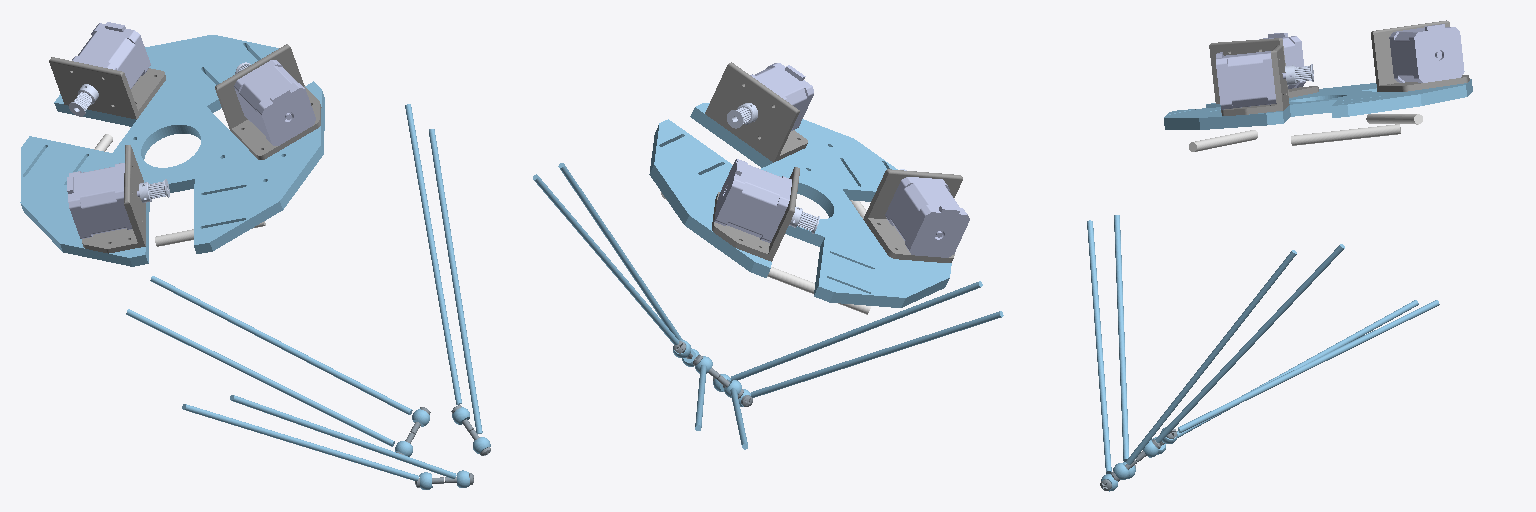
--- Facts derived from the render (not from the file) ---
3 views of the same robot in one strip: view 1: azimuth 30°, elevation 25°; view 2: azimuth 150°, elevation 25°; view 3: azimuth 270°, elevation 25° (orthographic).
Robot: delta-robot — 4 links, 3 joints (3 revolute); root link base_plate; default pose: every joint at zero.
Links seen in each view (by area): view 1: base_plate, arm_assembly_3, arm_assembly, arm_assembly_2; view 2: base_plate, arm_assembly_2, arm_assembly, arm_assembly_3; view 3: base_plate, arm_assembly, arm_assembly_2, arm_assembly_3.
Boxes of the visible links, <box> form: base_plate: <box>20,22,324,266</box>; arm_assembly_3: <box>94,134,430,456</box>; arm_assembly: <box>405,104,490,455</box>; arm_assembly_2: <box>155,221,473,489</box>; base_plate: <box>649,62,969,307</box>; arm_assembly_2: <box>713,200,1003,406</box>; arm_assembly: <box>533,163,699,366</box>; arm_assembly_3: <box>693,267,870,449</box>; base_plate: <box>1164,20,1472,129</box>; arm_assembly: <box>1111,124,1400,481</box>; arm_assembly_2: <box>1087,130,1257,491</box>; arm_assembly_3: <box>1151,114,1439,454</box>.
Bounding box of the posed robot: 0.3561 × 0.3165 × 0.3594 m (x, y, z).
31 mesh visuals loaded from 15 distinct referenced files (8 binary STL); not drawn: 31 (reference not matched to a file when rendering).

robot.urdf — delta-robot:
<?xml version="1.0" ?>
<!-- Generated using onshape-to-robot -->
<!-- Onshape https://cad.onshape.com/documents/20bfbde5f0dfed09746f3835/w/89e87a07589996b404d06798/e/02e6df3ca634eef0ea4fbf46 -->
<robot name="delta-robot">
  <!-- Link base_plate -->
  <link name="base_plate">
    <inertial>
      <origin xyz="-0.264612 0.12931 0.0615589" rpy="0 0 0"/>
      <mass value="0.0210468"/>
      <inertia ixx="7.78087e-05" ixy="2.78961e-06" ixz="-2.29581e-05" iyy="6.96219e-05" iyz="-7.07901e-06" izz="0.000127021"/>
    </inertial>
    <!-- Part gear_mount -->
    <visual>
      <origin xyz="-0.280176 0.118151 0.0151876" rpy="-0.305978 0.247573 2.52966"/>
      <geometry>
        <mesh filename="package://assets/gear_mount.stl"/>
      </geometry>
      <material name="gear_mount_material">
        <color rgba="0.231373 0.380392 0.705882 1"/>
      </material>
    </visual>
    <collision>
      <origin xyz="-0.280176 0.118151 0.0151876" rpy="-0.305978 0.247573 2.52966"/>
      <geometry>
        <mesh filename="package://assets/gear_mount.stl"/>
      </geometry>
    </collision>
    <!-- Part gear_mount_2 -->
    <visual>
      <origin xyz="-0.250632 0.168038 0.0328917" rpy="-0.0714862 -0.384872 0.487563"/>
      <geometry>
        <mesh filename="package://assets/gear_mount.stl"/>
      </geometry>
      <material name="gear_mount_2_material">
        <color rgba="0.231373 0.380392 0.705882 1"/>
      </material>
    </visual>
    <collision>
      <origin xyz="-0.250632 0.168038 0.0328917" rpy="-0.0714862 -0.384872 0.487563"/>
      <geometry>
        <mesh filename="package://assets/gear_mount.stl"/>
      </geometry>
    </collision>
    <!-- Part part_1 -->
    <visual>
      <origin xyz="-0.286239 0.208166 0.062677" rpy="-0.385763 0.0662488 2.03148"/>
      <geometry>
        <mesh filename="package://assets/part_1.stl"/>
      </geometry>
      <material name="part_1_material">
        <color rgba="0.866667 0.909804 1 1"/>
      </material>
    </visual>
    <collision>
      <origin xyz="-0.286239 0.208166 0.062677" rpy="-0.385763 0.0662488 2.03148"/>
      <geometry>
        <mesh filename="package://assets/part_1.stl"/>
      </geometry>
    </collision>
    <!-- Part motor_mount_1 -->
    <visual>
      <origin xyz="-0.251516 0.133348 0.0283281" rpy="0.36969 0.130762 -1.59628"/>
      <geometry>
        <mesh filename="package://assets/motor_mount_1.stl"/>
      </geometry>
      <material name="motor_mount_1_material">
        <color rgba="0.647059 0.647059 0.647059 1"/>
      </material>
    </visual>
    <collision>
      <origin xyz="-0.251516 0.133348 0.0283281" rpy="0.36969 0.130762 -1.59628"/>
      <geometry>
        <mesh filename="package://assets/motor_mount_1.stl"/>
      </geometry>
    </collision>
    <!-- Part motor_mount_1_2 -->
    <visual>
      <origin xyz="-0.251516 0.133348 0.0283281" rpy="-0.0714862 -0.384872 0.487563"/>
      <geometry>
        <mesh filename="package://assets/motor_mount_1.stl"/>
      </geometry>
      <material name="motor_mount_1_2_material">
        <color rgba="0.647059 0.647059 0.647059 1"/>
      </material>
    </visual>
    <collision>
      <origin xyz="-0.251516 0.133348 0.0283281" rpy="-0.0714862 -0.384872 0.487563"/>
      <geometry>
        <mesh filename="package://assets/motor_mount_1.stl"/>
      </geometry>
    </collision>
    <!-- Part gear_mount_3 -->
    <visual>
      <origin xyz="-0.223741 0.113855 0.0369049" rpy="0.36969 0.130762 -1.59628"/>
      <geometry>
        <mesh filename="package://assets/gear_mount.stl"/>
      </geometry>
      <material name="gear_mount_3_material">
        <color rgba="0.231373 0.380392 0.705882 1"/>
      </material>
    </visual>
    <collision>
      <origin xyz="-0.223741 0.113855 0.0369049" rpy="0.36969 0.130762 -1.59628"/>
      <geometry>
        <mesh filename="package://assets/gear_mount.stl"/>
      </geometry>
    </collision>
    <!-- Part gear_mount_4 -->
    <visual>
      <origin xyz="-0.251516 0.133348 0.0283281" rpy="-0.305978 0.247573 2.52966"/>
      <geometry>
        <mesh filename="package://assets/gear_mount.stl"/>
      </geometry>
      <material name="gear_mount_4_material">
        <color rgba="0.231373 0.380392 0.705882 1"/>
      </material>
    </visual>
    <collision>
      <origin xyz="-0.251516 0.133348 0.0283281" rpy="-0.305978 0.247573 2.52966"/>
      <geometry>
        <mesh filename="package://assets/gear_mount.stl"/>
      </geometry>
    </collision>
    <!-- Part part_5 -->
    <visual>
      <origin xyz="-0.251516 0.133348 0.0283281" rpy="0.36969 0.130762 -1.59628"/>
      <geometry>
        <mesh filename="package://assets/part_5.stl"/>
      </geometry>
      <material name="part_5_material">
        <color rgba="0.768627 0.886275 0.952941 1"/>
      </material>
    </visual>
    <collision>
      <origin xyz="-0.251516 0.133348 0.0283281" rpy="0.36969 0.130762 -1.59628"/>
      <geometry>
        <mesh filename="package://assets/part_5.stl"/>
      </geometry>
    </collision>
    <!-- Part gear_mount_5 -->
    <visual>
      <origin xyz="-0.251516 0.133348 0.0283281" rpy="-0.0714862 -0.384872 0.487563"/>
      <geometry>
        <mesh filename="package://assets/gear_mount.stl"/>
      </geometry>
      <material name="gear_mount_5_material">
        <color rgba="0.231373 0.380392 0.705882 1"/>
      </material>
    </visual>
    <collision>
      <origin xyz="-0.251516 0.133348 0.0283281" rpy="-0.0714862 -0.384872 0.487563"/>
      <geometry>
        <mesh filename="package://assets/gear_mount.stl"/>
      </geometry>
    </collision>
    <!-- Part gear_mount_6 -->
    <visual>
      <origin xyz="-0.251516 0.133348 0.0283281" rpy="0.36969 0.130762 -1.59628"/>
      <geometry>
        <mesh filename="package://assets/gear_mount.stl"/>
      </geometry>
      <material name="gear_mount_6_material">
        <color rgba="0.231373 0.380392 0.705882 1"/>
      </material>
    </visual>
    <collision>
      <origin xyz="-0.251516 0.133348 0.0283281" rpy="0.36969 0.130762 -1.59628"/>
      <geometry>
        <mesh filename="package://assets/gear_mount.stl"/>
      </geometry>
    </collision>
    <!-- Part base_plate -->
    <visual>
      <origin xyz="-0.251516 0.133348 0.0283281" rpy="0.36969 0.130762 -1.59628"/>
      <geometry>
        <mesh filename="package://assets/base_plate.stl"/>
      </geometry>
      <material name="base_plate_material">
        <color rgba="0.615686 0.811765 0.929412 1"/>
      </material>
    </visual>
    <collision>
      <origin xyz="-0.251516 0.133348 0.0283281" rpy="0.36969 0.130762 -1.59628"/>
      <geometry>
        <mesh filename="package://assets/base_plate.stl"/>
      </geometry>
    </collision>
    <!-- Part motor_mount_1_3 -->
    <visual>
      <origin xyz="-0.251516 0.133348 0.0283281" rpy="-0.305978 0.247573 2.52966"/>
      <geometry>
        <mesh filename="package://assets/motor_mount_1.stl"/>
      </geometry>
      <material name="motor_mount_1_3_material">
        <color rgba="0.647059 0.647059 0.647059 1"/>
      </material>
    </visual>
    <collision>
      <origin xyz="-0.251516 0.133348 0.0283281" rpy="-0.305978 0.247573 2.52966"/>
      <geometry>
        <mesh filename="package://assets/motor_mount_1.stl"/>
      </geometry>
    </collision>
    <!-- Part part_1_2 -->
    <visual>
      <origin xyz="-0.190585 0.106835 0.0880585" rpy="0.140117 -0.366384 -0.0759707"/>
      <geometry>
        <mesh filename="package://assets/part_1.stl"/>
      </geometry>
      <material name="part_1_2_material">
        <color rgba="0.866667 0.909804 1 1"/>
      </material>
    </visual>
    <collision>
      <origin xyz="-0.190585 0.106835 0.0880585" rpy="0.140117 -0.366384 -0.0759707"/>
      <geometry>
        <mesh filename="package://assets/part_1.stl"/>
      </geometry>
    </collision>
    <!-- Part motor -->
    <visual>
      <origin xyz="-0.279647 0.211662 0.0656993" rpy="-2.96706 -1.17967 -2.8425"/>
      <geometry>
        <mesh filename="package://assets/motor.stl"/>
      </geometry>
      <material name="motor_material">
        <color rgba="0.796078 0.823529 0.937255 1"/>
      </material>
    </visual>
    <collision>
      <origin xyz="-0.279647 0.211662 0.0656993" rpy="-2.96706 -1.17967 -2.8425"/>
      <geometry>
        <mesh filename="package://assets/motor.stl"/>
      </geometry>
    </collision>
    <!-- Part motor_2 -->
    <visual>
      <origin xyz="-0.323459 0.0773934 0.0321197" rpy="-0.872665 -1.17967 -2.8425"/>
      <geometry>
        <mesh filename="package://assets/motor.stl"/>
      </geometry>
      <material name="motor_2_material">
        <color rgba="0.796078 0.823529 0.937255 1"/>
      </material>
    </visual>
    <collision>
      <origin xyz="-0.323459 0.0773934 0.0321197" rpy="-0.872665 -1.17967 -2.8425"/>
      <geometry>
        <mesh filename="package://assets/motor.stl"/>
      </geometry>
    </collision>
    <!-- Part motor_3 -->
    <visual>
      <origin xyz="-0.190788 0.0988565 0.0870089" rpy="1.22173 -1.17967 -2.8425"/>
      <geometry>
        <mesh filename="package://assets/motor.stl"/>
      </geometry>
      <material name="motor_3_material">
        <color rgba="0.796078 0.823529 0.937255 1"/>
      </material>
    </visual>
    <collision>
      <origin xyz="-0.190788 0.0988565 0.0870089" rpy="1.22173 -1.17967 -2.8425"/>
      <geometry>
        <mesh filename="package://assets/motor.stl"/>
      </geometry>
    </collision>
    <!-- Part part_1_3 -->
    <visual>
      <origin xyz="-0.317071 0.0729101 0.0340924" rpy="0.259111 0.29636 -2.10547"/>
      <geometry>
        <mesh filename="package://assets/part_1.stl"/>
      </geometry>
      <material name="part_1_3_material">
        <color rgba="0.866667 0.909804 1 1"/>
      </material>
    </visual>
    <collision>
      <origin xyz="-0.317071 0.0729101 0.0340924" rpy="0.259111 0.29636 -2.10547"/>
      <geometry>
        <mesh filename="package://assets/part_1.stl"/>
      </geometry>
    </collision>
  </link>
  <!-- Link arm_assembly -->
  <link name="arm_assembly">
    <inertial>
      <origin xyz="0.0112847 0.035418 -0.102236" rpy="0 0 0"/>
      <mass value="0.0584453"/>
      <inertia ixx="0.00063144" ixy="-0.000131553" ixz="9.39485e-05" iyy="0.000259412" iyz="0.000295681" izz="0.000464379"/>
    </inertial>
    <!-- Part part_1_4 -->
    <visual>
      <origin xyz="0.0703999 0.0258622 -0.06405" rpy="1.92285 -1.5708 0"/>
      <geometry>
        <mesh filename="package://assets/part_1__2.stl"/>
      </geometry>
      <material name="part_1_4_material">
        <color rgba="0.615686 0.811765 0.929412 1"/>
      </material>
    </visual>
    <collision>
      <origin xyz="0.0703999 0.0258622 -0.06405" rpy="1.92285 -1.5708 0"/>
      <geometry>
        <mesh filename="package://assets/part_1__2.stl"/>
      </geometry>
    </collision>
    <!-- Part part_1_5 -->
    <visual>
      <origin xyz="0.0768366 0.239524 -0.261009" rpy="0.137719 0.709725 1.89561"/>
      <geometry>
        <mesh filename="package://assets/part_1__3.stl"/>
      </geometry>
      <material name="part_1_5_material">
        <color rgba="0.615686 0.811765 0.929412 1"/>
      </material>
    </visual>
    <collision>
      <origin xyz="0.0768366 0.239524 -0.261009" rpy="0.137719 0.709725 1.89561"/>
      <geometry>
        <mesh filename="package://assets/part_1__3.stl"/>
      </geometry>
    </collision>
    <!-- Part m5_przegub__v1 -->
    <visual>
      <origin xyz="0.1408 0.0517243 -0.08405" rpy="0.137719 0.709725 1.89561"/>
      <geometry>
        <mesh filename="package://assets/m5_przegub__v1.stl"/>
      </geometry>
      <material name="m5_przegub__v1_material">
        <color rgba="0.627451 0.627451 0.627451 1"/>
      </material>
    </visual>
    <collision>
      <origin xyz="0.1408 0.0517243 -0.08405" rpy="0.137719 0.709725 1.89561"/>
      <geometry>
        <mesh filename="package://assets/m5_przegub__v1.stl"/>
      </geometry>
    </collision>
    <!-- Part component1 -->
    <visual>
      <origin xyz="0.1408 0.0517243 -0.04405" rpy="-3.13667 -0.012322 -2.43316"/>
      <geometry>
        <mesh filename="package://assets/component1.stl"/>
      </geometry>
      <material name="component1_material">
        <color rgba="0.627451 0.627451 0.627451 1"/>
      </material>
    </visual>
    <collision>
      <origin xyz="0.1408 0.0517243 -0.04405" rpy="-3.13667 -0.012322 -2.43316"/>
      <geometry>
        <mesh filename="package://assets/component1.stl"/>
      </geometry>
    </collision>
    <!-- Part part_2 -->
    <visual>
      <origin xyz="0.0724677 0.224546 -0.227658" rpy="-2.58629 0.0993932 -0.373747"/>
      <geometry>
        <mesh filename="package://assets/part_2.stl"/>
      </geometry>
      <material name="part_2_material">
        <color rgba="0.615686 0.811765 0.929412 1"/>
      </material>
    </visual>
    <collision>
      <origin xyz="0.0724677 0.224546 -0.227658" rpy="-2.58629 0.0993932 -0.373747"/>
      <geometry>
        <mesh filename="package://assets/part_2.stl"/>
      </geometry>
    </collision>
    <!-- Part ph_pan_head_screw_m5x0_80_x_20__cc5a28f66c81927f4b0c3b2d4528a18f -->
    <visual>
      <origin xyz="0.0774717 0.247444 -0.264777" rpy="3.1101 0.562422 -1.84496"/>
      <geometry>
        <mesh filename="package://assets/ph_pan_head_screw_m5x0_80_x_20__cc5a28f66c81927f4b0c3b2d4528a18f.stl"/>
      </geometry>
      <material name="ph_pan_head_screw_m5x0_80_x_20__cc5a28f66c81927f4b0c3b2d4528a18f_material">
        <color rgba="0.603922 0.647059 0.686275 1"/>
      </material>
    </visual>
    <collision>
      <origin xyz="0.0774717 0.247444 -0.264777" rpy="3.1101 0.562422 -1.84496"/>
      <geometry>
        <mesh filename="package://assets/ph_pan_head_screw_m5x0_80_x_20__cc5a28f66c81927f4b0c3b2d4528a18f.stl"/>
      </geometry>
    </collision>
    <!-- Part component1_2 -->
    <visual>
      <origin xyz="0.1408 0.0517243 -0.08405" rpy="0.00492019 0.012322 1.66639"/>
      <geometry>
        <mesh filename="package://assets/component1.stl"/>
      </geometry>
      <material name="component1_2_material">
        <color rgba="0.627451 0.627451 0.627451 1"/>
      </material>
    </visual>
    <collision>
      <origin xyz="0.1408 0.0517243 -0.08405" rpy="0.00492019 0.012322 1.66639"/>
      <geometry>
        <mesh filename="package://assets/component1.stl"/>
      </geometry>
    </collision>
    <!-- Part part_1_6 -->
    <visual>
      <origin xyz="0.0713548 0.230277 -0.228362" rpy="3.05256 0.784795 1.93941"/>
      <geometry>
        <mesh filename="package://assets/part_1__3.stl"/>
      </geometry>
      <material name="part_1_6_material">
        <color rgba="0.615686 0.811765 0.929412 1"/>
      </material>
    </visual>
    <collision>
      <origin xyz="0.0713548 0.230277 -0.228362" rpy="3.05256 0.784795 1.93941"/>
      <geometry>
        <mesh filename="package://assets/part_1__3.stl"/>
      </geometry>
    </collision>
    <!-- Part part_2_2 -->
    <visual>
      <origin xyz="0.0770271 0.24541 -0.26148" rpy="0.562646 0.0266399 -0.257365"/>
      <geometry>
        <mesh filename="package://assets/part_2.stl"/>
      </geometry>
      <material name="part_2_2_material">
        <color rgba="0.615686 0.811765 0.929412 1"/>
      </material>
    </visual>
    <collision>
      <origin xyz="0.0770271 0.24541 -0.26148" rpy="0.562646 0.0266399 -0.257365"/>
      <geometry>
        <mesh filename="package://assets/part_2.stl"/>
      </geometry>
    </collision>
    <!-- Part part_1_7 -->
    <visual>
      <origin xyz="0.0788779 0.235613 -0.250736" rpy="0.158469 -0.850119 1.68604"/>
      <geometry>
        <mesh filename="package://assets/part_1__4.stl"/>
      </geometry>
      <material name="part_1_7_material">
        <color rgba="0.615686 0.811765 0.929412 1"/>
      </material>
    </visual>
    <collision>
      <origin xyz="0.0788779 0.235613 -0.250736" rpy="0.158469 -0.850119 1.68604"/>
      <geometry>
        <mesh filename="package://assets/part_1__4.stl"/>
      </geometry>
    </collision>
    <!-- Part m5_przegub__v1_2 -->
    <visual>
      <origin xyz="0.1408 0.0517243 -0.04405" rpy="-0.0890354 0.784795 1.93941"/>
      <geometry>
        <mesh filename="package://assets/m5_przegub__v1.stl"/>
      </geometry>
      <material name="m5_przegub__v1_2_material">
        <color rgba="0.627451 0.627451 0.627451 1"/>
      </material>
    </visual>
    <collision>
      <origin xyz="0.1408 0.0517243 -0.04405" rpy="-0.0890354 0.784795 1.93941"/>
      <geometry>
        <mesh filename="package://assets/m5_przegub__v1.stl"/>
      </geometry>
    </collision>
    <!-- Part part_1_8 -->
    <visual>
      <origin xyz="0 0 -0.09" rpy="1.5708 -0 3.14159"/>
      <geometry>
        <mesh filename="package://assets/part_1__5.stl"/>
      </geometry>
      <material name="part_1_8_material">
        <color rgba="0.866667 0.909804 1 1"/>
      </material>
    </visual>
    <collision>
      <origin xyz="0 0 -0.09" rpy="1.5708 -0 3.14159"/>
      <geometry>
        <mesh filename="package://assets/part_1__5.stl"/>
      </geometry>
    </collision>
    <!-- Part ph_pan_head_screw_m5x0_80_x_20__cc5a28f66c81927f4b0c3b2d4528a18f_2 -->
    <visual>
      <origin xyz="0.0720231 0.222512 -0.22436" rpy="-0.116821 0.552244 -2.00603"/>
      <geometry>
        <mesh filename="package://assets/ph_pan_head_screw_m5x0_80_x_20__cc5a28f66c81927f4b0c3b2d4528a18f.stl"/>
      </geometry>
      <material name="ph_pan_head_screw_m5x0_80_x_20__cc5a28f66c81927f4b0c3b2d4528a18f_2_material">
        <color rgba="0.603922 0.647059 0.686275 1"/>
      </material>
    </visual>
    <collision>
      <origin xyz="0.0720231 0.222512 -0.22436" rpy="-0.116821 0.552244 -2.00603"/>
      <geometry>
        <mesh filename="package://assets/ph_pan_head_screw_m5x0_80_x_20__cc5a28f66c81927f4b0c3b2d4528a18f.stl"/>
      </geometry>
    </collision>
    <!-- Part rod -->
    <visual>
      <origin xyz="-0.08 -0.0175 -0.071" rpy="1.5708 -0.523599 0"/>
      <geometry>
        <mesh filename="package://assets/rod.stl"/>
      </geometry>
      <material name="rod_material">
        <color rgba="0.917647 0.917647 0.917647 1"/>
      </material>
    </visual>
    <collision>
      <origin xyz="-0.08 -0.0175 -0.071" rpy="1.5708 -0.523599 0"/>
      <geometry>
        <mesh filename="package://assets/rod.stl"/>
      </geometry>
    </collision>
    <!-- Part part_1_9 -->
    <visual>
      <origin xyz="0.075587 0.220554 -0.224819" rpy="0.088791 0.782043 -1.07653"/>
      <geometry>
        <mesh filename="package://assets/part_1__4.stl"/>
      </geometry>
      <material name="part_1_9_material">
        <color rgba="0.615686 0.811765 0.929412 1"/>
      </material>
    </visual>
    <collision>
      <origin xyz="0.075587 0.220554 -0.224819" rpy="0.088791 0.782043 -1.07653"/>
      <geometry>
        <mesh filename="package://assets/part_1__4.stl"/>
      </geometry>
    </collision>
  </link>
  <!-- Joint from base_plate to arm_assembly -->
  <joint name="shoulder1" type="revolute">
    <origin xyz="-0.168872 0.200016 0.0500666" rpy="-1.43829 -0.16193 -0.0469725"/>
    <parent link="base_plate"/>
    <child link="arm_assembly"/>
    <axis xyz="0 0 1"/>
    <limit effort="10" velocity="10" lower="-3.141592653589793" upper="3.141592653589793"/>
  </joint>
  <!-- Link arm_assembly_2 -->
  <link name="arm_assembly_2">
    <inertial>
      <origin xyz="0.00779666 0.0392206 -0.0531467" rpy="0 0 0"/>
      <mass value="0.0584453"/>
      <inertia ixx="0.000701394" ixy="-0.000100458" ixz="-6.08724e-05" iyy="0.000214471" iyz="-0.000308073" izz="0.000535493"/>
    </inertial>
    <!-- Part part_1_10 -->
    <visual>
      <origin xyz="0.0696662 0.0277781 -0.06405" rpy="1.95021 -1.5708 0"/>
      <geometry>
        <mesh filename="package://assets/part_1__2.stl"/>
      </geometry>
      <material name="part_1_10_material">
        <color rgba="0.615686 0.811765 0.929412 1"/>
      </material>
    </visual>
    <collision>
      <origin xyz="0.0696662 0.0277781 -0.06405" rpy="1.95021 -1.5708 0"/>
      <geometry>
        <mesh filename="package://assets/part_1__2.stl"/>
      </geometry>
    </collision>
    <!-- Part part_1_11 -->
    <visual>
      <origin xyz="0.0507163 0.259006 0.0623397" rpy="0.138439 -0.601779 1.97847"/>
      <geometry>
        <mesh filename="package://assets/part_1__3.stl"/>
      </geometry>
      <material name="part_1_11_material">
        <color rgba="0.615686 0.811765 0.929412 1"/>
      </material>
    </visual>
    <collision>
      <origin xyz="0.0507163 0.259006 0.0623397" rpy="0.138439 -0.601779 1.97847"/>
      <geometry>
        <mesh filename="package://assets/part_1__3.stl"/>
      </geometry>
    </collision>
    <!-- Part m5_przegub__v1_3 -->
    <visual>
      <origin xyz="0.139332 0.0555562 -0.08405" rpy="0.138439 -0.601779 1.97847"/>
      <geometry>
        <mesh filename="package://assets/m5_przegub__v1.stl"/>
      </geometry>
      <material name="m5_przegub__v1_3_material">
        <color rgba="0.627451 0.627451 0.627451 1"/>
      </material>
    </visual>
    <collision>
      <origin xyz="0.139332 0.0555562 -0.08405" rpy="0.138439 -0.601779 1.97847"/>
      <geometry>
        <mesh filename="package://assets/m5_przegub__v1.stl"/>
      </geometry>
    </collision>
    <!-- Part component1_3 -->
    <visual>
      <origin xyz="0.139332 0.0555562 -0.04405" rpy="-3.13667 -0.012322 -1.44172"/>
      <geometry>
        <mesh filename="package://assets/component1.stl"/>
      </geometry>
      <material name="component1_3_material">
        <color rgba="0.627451 0.627451 0.627451 1"/>
      </material>
    </visual>
    <collision>
      <origin xyz="0.139332 0.0555562 -0.04405" rpy="-3.13667 -0.012322 -1.44172"/>
      <geometry>
        <mesh filename="package://assets/component1.stl"/>
      </geometry>
    </collision>
    <!-- Part part_2_3 -->
    <visual>
      <origin xyz="0.0504877 0.26485 0.100404" rpy="2.9235 0.105182 0.680154"/>
      <geometry>
        <mesh filename="package://assets/part_2.stl"/>
      </geometry>
      <material name="part_2_3_material">
        <color rgba="0.615686 0.811765 0.929412 1"/>
      </material>
    </visual>
    <collision>
      <origin xyz="0.0504877 0.26485 0.100404" rpy="2.9235 0.105182 0.680154"/>
      <geometry>
        <mesh filename="package://assets/part_2.stl"/>
      </geometry>
    </collision>
    <!-- Part ph_pan_head_screw_m5x0_80_x_20__cc5a28f66c81927f4b0c3b2d4528a18f_3 -->
    <visual>
      <origin xyz="0.0529631 0.254635 0.0577807" rpy="-3.13234 0.241598 1.84721"/>
      <geometry>
        <mesh filename="package://assets/ph_pan_head_screw_m5x0_80_x_20__cc5a28f66c81927f4b0c3b2d4528a18f.stl"/>
      </geometry>
      <material name="ph_pan_head_screw_m5x0_80_x_20__cc5a28f66c81927f4b0c3b2d4528a18f_3_material">
        <color rgba="0.603922 0.647059 0.686275 1"/>
      </material>
    </visual>
    <collision>
      <origin xyz="0.0529631 0.254635 0.0577807" rpy="-3.13234 0.241598 1.84721"/>
      <geometry>
        <mesh filename="package://assets/ph_pan_head_screw_m5x0_80_x_20__cc5a28f66c81927f4b0c3b2d4528a18f.stl"/>
      </geometry>
    </collision>
    <!-- Part component1_4 -->
    <visual>
      <origin xyz="0.139332 0.0555562 -0.08405" rpy="0.00492019 0.012322 -1.44172"/>
      <geometry>
        <mesh filename="package://assets/component1.stl"/>
      </geometry>
      <material name="component1_4_material">
        <color rgba="0.627451 0.627451 0.627451 1"/>
      </material>
    </visual>
    <collision>
      <origin xyz="0.139332 0.0555562 -0.08405" rpy="0.00492019 0.012322 -1.44172"/>
      <geometry>
        <mesh filename="package://assets/component1.stl"/>
      </geometry>
    </collision>
    <!-- Part part_1_12 -->
    <visual>
      <origin xyz="0.05023 0.266295 0.091318" rpy="-0.105149 -0.552955 1.9731"/>
      <geometry>
        <mesh filename="package://assets/part_1__3.stl"/>
      </geometry>
      <material name="part_1_12_material">
        <color rgba="0.615686 0.811765 0.929412 1"/>
      </material>
    </visual>
    <collision>
      <origin xyz="0.05023 0.266295 0.091318" rpy="-0.105149 -0.552955 1.9731"/>
      <geometry>
        <mesh filename="package://assets/part_1__3.stl"/>
      </geometry>
    </collision>
    <!-- Part part_2_4 -->
    <visual>
      <origin xyz="0.0527432 0.255543 0.0615673" rpy="0.241608 -0.00898612 -2.8674"/>
      <geometry>
        <mesh filename="package://assets/part_2.stl"/>
      </geometry>
      <material name="part_2_4_material">
        <color rgba="0.615686 0.811765 0.929412 1"/>
      </material>
    </visual>
    <collision>
      <origin xyz="0.0527432 0.255543 0.0615673" rpy="0.241608 -0.00898612 -2.8674"/>
      <geometry>
        <mesh filename="package://assets/part_2.stl"/>
      </geometry>
    </collision>
    <!-- Part part_1_13 -->
    <visual>
      <origin xyz="0.0557295 0.249138 0.0607608" rpy="2.94329 -0.955224 -0.921796"/>
      <geometry>
        <mesh filename="package://assets/part_1__4.stl"/>
      </geometry>
      <material name="part_1_13_material">
        <color rgba="0.615686 0.811765 0.929412 1"/>
      </material>
    </visual>
    <collision>
      <origin xyz="0.0557295 0.249138 0.0607608" rpy="2.94329 -0.955224 -0.921796"/>
      <geometry>
        <mesh filename="package://assets/part_1__4.stl"/>
      </geometry>
    </collision>
    <!-- Part m5_przegub__v1_4 -->
    <visual>
      <origin xyz="0.139332 0.0555562 -0.04405" rpy="3.03644 -0.552955 1.9731"/>
      <geometry>
        <mesh filename="package://assets/m5_przegub__v1.stl"/>
      </geometry>
      <material name="m5_przegub__v1_4_material">
        <color rgba="0.627451 0.627451 0.627451 1"/>
      </material>
    </visual>
    <collision>
      <origin xyz="0.139332 0.0555562 -0.04405" rpy="3.03644 -0.552955 1.9731"/>
      <geometry>
        <mesh filename="package://assets/m5_przegub__v1.stl"/>
      </geometry>
    </collision>
    <!-- Part part_1_14 -->
    <visual>
      <origin xyz="-0 0 -0.09" rpy="1.5708 -0 3.14159"/>
      <geometry>
        <mesh filename="package://assets/part_1__5.stl"/>
      </geometry>
      <material name="part_1_14_material">
        <color rgba="0.866667 0.909804 1 1"/>
      </material>
    </visual>
    <collision>
      <origin xyz="-0 0 -0.09" rpy="1.5708 -0 3.14159"/>
      <geometry>
        <mesh filename="package://assets/part_1__5.stl"/>
      </geometry>
    </collision>
    <!-- Part ph_pan_head_screw_m5x0_80_x_20__cc5a28f66c81927f4b0c3b2d4528a18f_4 -->
    <visual>
      <origin xyz="0.0502678 0.265758 0.10419" rpy="-0.107715 -0.216873 -0.867379"/>
      <geometry>
        <mesh filename="package://assets/ph_pan_head_screw_m5x0_80_x_20__cc5a28f66c81927f4b0c3b2d4528a18f.stl"/>
      </geometry>
      <material name="ph_pan_head_screw_m5x0_80_x_20__cc5a28f66c81927f4b0c3b2d4528a18f_4_material">
        <color rgba="0.603922 0.647059 0.686275 1"/>
      </material>
    </visual>
    <collision>
      <origin xyz="0.0502678 0.265758 0.10419" rpy="-0.107715 -0.216873 -0.867379"/>
      <geometry>
        <mesh filename="package://assets/ph_pan_head_screw_m5x0_80_x_20__cc5a28f66c81927f4b0c3b2d4528a18f.stl"/>
      </geometry>
    </collision>
    <!-- Part rod_2 -->
    <visual>
      <origin xyz="-0.08 -0.0175 -0.071" rpy="1.5708 -0.523599 -0"/>
      <geometry>
        <mesh filename="package://assets/rod.stl"/>
      </geometry>
      <material name="rod_2_material">
        <color rgba="0.917647 0.917647 0.917647 1"/>
      </material>
    </visual>
    <collision>
      <origin xyz="-0.08 -0.0175 -0.071" rpy="1.5708 -0.523599 -0"/>
      <geometry>
        <mesh filename="package://assets/rod.stl"/>
      </geometry>
    </collision>
    <!-- Part part_1_15 -->
    <visual>
      <origin xyz="0.0541016 0.255856 0.0902973" rpy="-2.97315 -1.00896 -1.36679"/>
      <geometry>
        <mesh filename="package://assets/part_1__4.stl"/>
      </geometry>
      <material name="part_1_15_material">
        <color rgba="0.615686 0.811765 0.929412 1"/>
      </material>
    </visual>
    <collision>
      <origin xyz="0.0541016 0.255856 0.0902973" rpy="-2.97315 -1.00896 -1.36679"/>
      <geometry>
        <mesh filename="package://assets/part_1__4.stl"/>
      </geometry>
    </collision>
  </link>
  <!-- Joint from base_plate to arm_assembly_2 -->
  <joint name="shoulder_3" type="revolute">
    <origin xyz="-0.227785 0.0299372 0.00618505" rpy="-1.31264 0.284228 -2.10882"/>
    <parent link="base_plate"/>
    <child link="arm_assembly_2"/>
    <axis xyz="0 0 1"/>
    <limit effort="10" velocity="10" lower="-3.141592653589793" upper="3.141592653589793"/>
  </joint>
  <!-- Link arm_assembly_3 -->
  <link name="arm_assembly_3">
    <inertial>
      <origin xyz="-0.0267709 0.04343 -0.0728976" rpy="0 0 0"/>
      <mass value="0.0584453"/>
      <inertia ixx="0.000634647" ixy="0.000382983" ixz="3.55526e-05" iyy="0.000249422" iyz="-5.86899e-05" izz="0.000866397"/>
    </inertial>
    <!-- Part part_1_16 -->
    <visual>
      <origin xyz="0.0223144 0.0716035 -0.06405" rpy="2.83949 -1.5708 0"/>
      <geometry>
        <mesh filename="package://assets/part_1__2.stl"/>
      </geometry>
      <material name="part_1_16_material">
        <color rgba="0.615686 0.811765 0.929412 1"/>
      </material>
    </visual>
    <collision>
      <origin xyz="0.0223144 0.0716035 -0.06405" rpy="2.83949 -1.5708 0"/>
      <geometry>
        <mesh filename="package://assets/part_1__2.stl"/>
      </geometry>
    </collision>
    <!-- Part part_1_17 -->
    <visual>
      <origin xyz="-0.180632 0.283604 -0.0691853" rpy="0.151821 -0.0745366 2.58139"/>
      <geometry>
        <mesh filename="package://assets/part_1__3.stl"/>
      </geometry>
      <material name="part_1_17_material">
        <color rgba="0.615686 0.811765 0.929412 1"/>
      </material>
    </visual>
    <collision>
      <origin xyz="-0.180632 0.283604 -0.0691853" rpy="0.151821 -0.0745366 2.58139"/>
      <geometry>
        <mesh filename="package://assets/part_1__3.stl"/>
      </geometry>
    </collision>
    <!-- Part m5_przegub__v1_5 -->
    <visual>
      <origin xyz="0.0446289 0.143207 -0.08405" rpy="0.151821 -0.0745366 2.58139"/>
      <geometry>
        <mesh filename="package://assets/m5_przegub__v1.stl"/>
      </geometry>
      <material name="m5_przegub__v1_5_material">
        <color rgba="0.627451 0.627451 0.627451 1"/>
      </material>
    </visual>
    <collision>
      <origin xyz="0.0446289 0.143207 -0.08405" rpy="0.151821 -0.0745366 2.58139"/>
      <geometry>
        <mesh filename="package://assets/m5_przegub__v1.stl"/>
      </geometry>
    </collision>
    <!-- Part component1_5 -->
    <visual>
      <origin xyz="0.0446289 0.143207 -0.04405" rpy="-3.13667 -0.012322 -1.99703"/>
      <geometry>
        <mesh filename="package://assets/component1.stl"/>
      </geometry>
      <material name="component1_5_material">
        <color rgba="0.627451 0.627451 0.627451 1"/>
      </material>
    </visual>
    <collision>
      <origin xyz="0.0446289 0.143207 -0.04405" rpy="-3.13667 -0.012322 -1.99703"/>
      <geometry>
        <mesh filename="package://assets/component1.stl"/>
      </geometry>
    </collision>
    <!-- Part part_2_5 -->
    <visual>
      <origin xyz="-0.174583 0.293531 -0.0309903" rpy="2.82759 0.0367975 -0.399674"/>
      <geometry>
        <mesh filename="package://assets/part_2.stl"/>
      </geometry>
      <material name="part_2_5_material">
        <color rgba="0.615686 0.811765 0.929412 1"/>
      </material>
    </visual>
    <collision>
      <origin xyz="-0.174583 0.293531 -0.0309903" rpy="2.82759 0.0367975 -0.399674"/>
      <geometry>
        <mesh filename="package://assets/part_2.stl"/>
      </geometry>
    </collision>
    <!-- Part ph_pan_head_screw_m5x0_80_x_20__cc5a28f66c81927f4b0c3b2d4528a18f_5 -->
    <visual>
      <origin xyz="-0.181275 0.281638 -0.0727156" rpy="3.12706 0.315753 1.01155"/>
      <geometry>
        <mesh filename="package://assets/ph_pan_head_screw_m5x0_80_x_20__cc5a28f66c81927f4b0c3b2d4528a18f.stl"/>
      </geometry>
      <material name="ph_pan_head_screw_m5x0_80_x_20__cc5a28f66c81927f4b0c3b2d4528a18f_5_material">
        <color rgba="0.603922 0.647059 0.686275 1"/>
      </material>
    </visual>
    <collision>
      <origin xyz="-0.181275 0.281638 -0.0727156" rpy="3.12706 0.315753 1.01155"/>
      <geometry>
        <mesh filename="package://assets/ph_pan_head_screw_m5x0_80_x_20__cc5a28f66c81927f4b0c3b2d4528a18f.stl"/>
      </geometry>
    </collision>
    <!-- Part component1_6 -->
    <visual>
      <origin xyz="0.0446289 0.143207 -0.08405" rpy="0.00492019 0.012322 -1.99993"/>
      <geometry>
        <mesh filename="package://assets/component1.stl"/>
      </geometry>
      <material name="component1_6_material">
        <color rgba="0.627451 0.627451 0.627451 1"/>
      </material>
    </visual>
    <collision>
      <origin xyz="0.0446289 0.143207 -0.08405" rpy="0.00492019 0.012322 -1.99993"/>
      <geometry>
        <mesh filename="package://assets/component1.stl"/>
      </geometry>
    </collision>
    <!-- Part part_1_18 -->
    <visual>
      <origin xyz="-0.174666 0.293447 -0.0405306" rpy="-0.29062 -0.0312593 2.54632"/>
      <geometry>
        <mesh filename="package://assets/part_1__3.stl"/>
      </geometry>
      <material name="part_1_18_material">
        <color rgba="0.615686 0.811765 0.929412 1"/>
      </material>
    </visual>
    <collision>
      <origin xyz="-0.174666 0.293447 -0.0405306" rpy="-0.29062 -0.0312593 2.54632"/>
      <geometry>
        <mesh filename="package://assets/part_1__3.stl"/>
      </geometry>
    </collision>
    <!-- Part part_2_6 -->
    <visual>
      <origin xyz="-0.18068 0.282695 -0.0690088" rpy="0.315784 0.0138131 2.58686"/>
      <geometry>
        <mesh filename="package://assets/part_2.stl"/>
      </geometry>
      <material name="part_2_6_material">
        <color rgba="0.615686 0.811765 0.929412 1"/>
      </material>
    </visual>
    <collision>
      <origin xyz="-0.18068 0.282695 -0.0690088" rpy="0.315784 0.0138131 2.58686"/>
      <geometry>
        <mesh filename="package://assets/part_2.stl"/>
      </geometry>
    </collision>
    <!-- Part part_1_19 -->
    <visual>
      <origin xyz="-0.17147 0.278751 -0.0650012" rpy="2.02944 -1.40179 0.557627"/>
      <geometry>
        <mesh filename="package://assets/part_1__4.stl"/>
      </geometry>
      <material name="part_1_19_material">
        <color rgba="0.615686 0.811765 0.929412 1"/>
      </material>
    </visual>
    <collision>
      <origin xyz="-0.17147 0.278751 -0.0650012" rpy="2.02944 -1.40179 0.557627"/>
      <geometry>
        <mesh filename="package://assets/part_1__4.stl"/>
      </geometry>
    </collision>
    <!-- Part m5_przegub__v1_6 -->
    <visual>
      <origin xyz="0.0446289 0.143207 -0.04405" rpy="2.85097 -0.0312593 2.54632"/>
      <geometry>
        <mesh filename="package://assets/m5_przegub__v1.stl"/>
      </geometry>
      <material name="m5_przegub__v1_6_material">
        <color rgba="0.627451 0.627451 0.627451 1"/>
      </material>
    </visual>
    <collision>
      <origin xyz="0.0446289 0.143207 -0.04405" rpy="2.85097 -0.0312593 2.54632"/>
      <geometry>
        <mesh filename="package://assets/m5_przegub__v1.stl"/>
      </geometry>
    </collision>
    <!-- Part part_1_20 -->
    <visual>
      <origin xyz="-0 0 -0.09" rpy="1.5708 0 -3.14159"/>
      <geometry>
        <mesh filename="package://assets/part_1__5.stl"/>
      </geometry>
      <material name="part_1_20_material">
        <color rgba="0.866667 0.909804 1 1"/>
      </material>
    </visual>
    <collision>
      <origin xyz="-0 0 -0.09" rpy="1.5708 0 -3.14159"/>
      <geometry>
        <mesh filename="package://assets/part_1__5.stl"/>
      </geometry>
    </collision>
    <!-- Part ph_pan_head_screw_m5x0_80_x_20__cc5a28f66c81927f4b0c3b2d4528a18f_6 -->
    <visual>
      <origin xyz="-0.173989 0.294588 -0.0272835" rpy="-0.0386873 -0.313778 -1.95852"/>
      <geometry>
        <mesh filename="package://assets/ph_pan_head_screw_m5x0_80_x_20__cc5a28f66c81927f4b0c3b2d4528a18f.stl"/>
      </geometry>
      <material name="ph_pan_head_screw_m5x0_80_x_20__cc5a28f66c81927f4b0c3b2d4528a18f_6_material">
        <color rgba="0.603922 0.647059 0.686275 1"/>
      </material>
    </visual>
    <collision>
      <origin xyz="-0.173989 0.294588 -0.0272835" rpy="-0.0386873 -0.313778 -1.95852"/>
      <geometry>
        <mesh filename="package://assets/ph_pan_head_screw_m5x0_80_x_20__cc5a28f66c81927f4b0c3b2d4528a18f.stl"/>
      </geometry>
    </collision>
    <!-- Part rod_3 -->
    <visual>
      <origin xyz="-0.08 -0.0175 -0.071" rpy="1.5708 -0.523599 -0"/>
      <geometry>
        <mesh filename="package://assets/rod.stl"/>
      </geometry>
      <material name="rod_3_material">
        <color rgba="0.917647 0.917647 0.917647 1"/>
      </material>
    </visual>
    <collision>
      <origin xyz="-0.08 -0.0175 -0.071" rpy="1.5708 -0.523599 -0"/>
      <geometry>
        <mesh filename="package://assets/rod.stl"/>
      </geometry>
    </collision>
    <!-- Part part_1_21 -->
    <visual>
      <origin xyz="-0.16707 0.286572 -0.0360552" rpy="-1.67949 -1.27855 -2.06194"/>
      <geometry>
        <mesh filename="package://assets/part_1__4.stl"/>
      </geometry>
      <material name="part_1_21_material">
        <color rgba="0.615686 0.811765 0.929412 1"/>
      </material>
    </visual>
    <collision>
      <origin xyz="-0.16707 0.286572 -0.0360552" rpy="-1.67949 -1.27855 -2.06194"/>
      <geometry>
        <mesh filename="package://assets/part_1__4.stl"/>
      </geometry>
    </collision>
  </link>
  <!-- Joint from base_plate to arm_assembly_3 -->
  <joint name="shoulder_2" type="revolute">
    <origin xyz="-0.338766 0.175988 -0.0198026" rpy="-1.97478 0.300782 1.93238"/>
    <parent link="base_plate"/>
    <child link="arm_assembly_3"/>
    <axis xyz="0 0 1"/>
    <limit effort="10" velocity="10" lower="-3.141592653589793" upper="3.141592653589793"/>
  </joint>
</robot>
